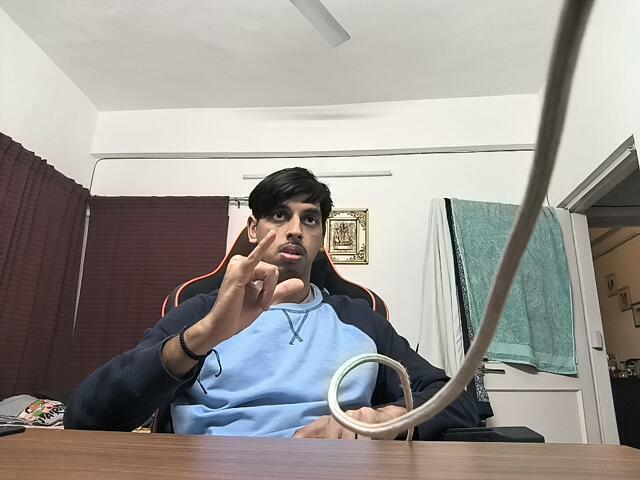FLIP: (219, 227, 311, 344)
